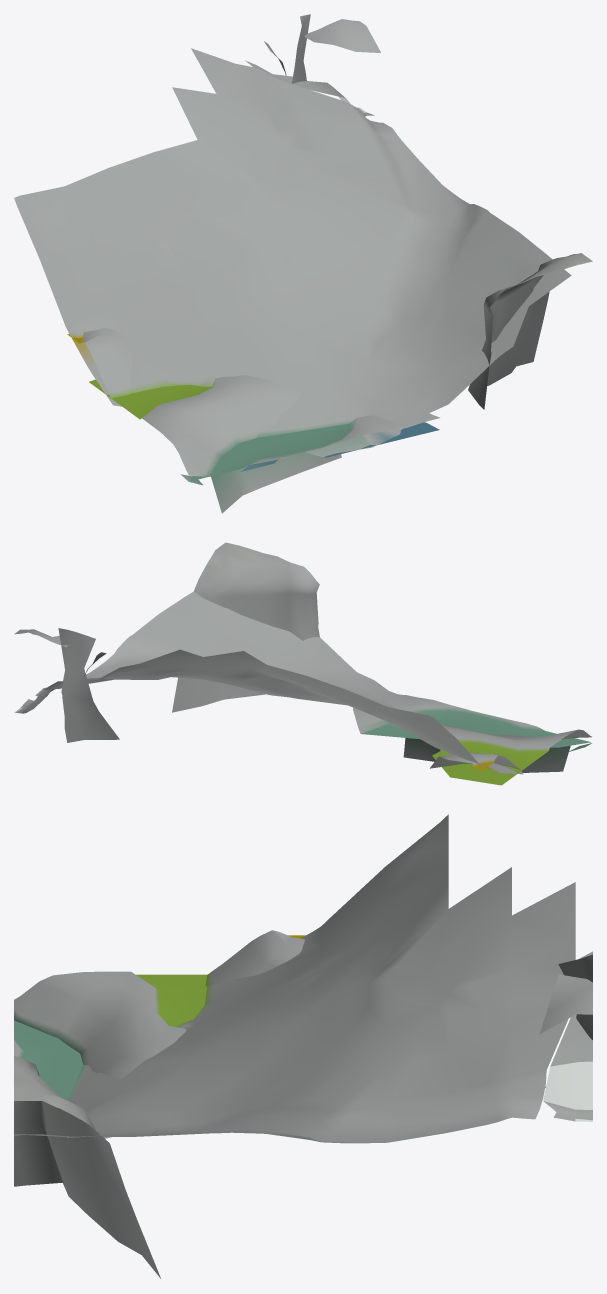
The picture shows the model from 3 angles, top to bottom: view 1: azimuth 30°, elevation 25°; view 2: azimuth 150°, elevation 25°; view 3: azimuth 270°, elevation 25°; orthographic projection. The views are drawn at different scales.
Parts seen in each view (by area): view 1: G:\FFXIV-MapTools\exports\e3f2\bg\ex2\02_est_e3\fld\e3f2\bgp (×14); view 2: G:\FFXIV-MapTools\exports\e3f2\bg\ex2\02_est_e3\fld\e3f2\bgp (×11); view 3: G:\FFXIV-MapTools\exports\e3f2\bg\ex2\02_est_e3\fld\e3f2\bgp (×13).
Boxes of the visible parts, x1,y1,x2,y2 form: G:\FFXIV-MapTools\exports\e3f2\bg\ex2\02_est_e3\fld\e3f2\bgp (×14): [14, 14, 592, 513]; G:\FFXIV-MapTools\exports\e3f2\bg\ex2\02_est_e3\fld\e3f2\bgp (×11): [14, 542, 591, 785]; G:\FFXIV-MapTools\exports\e3f2\bg\ex2\02_est_e3\fld\e3f2\bgp (×13): [14, 814, 592, 1278].
Size of the model in its own units: 128 by 76.45 by 128.
